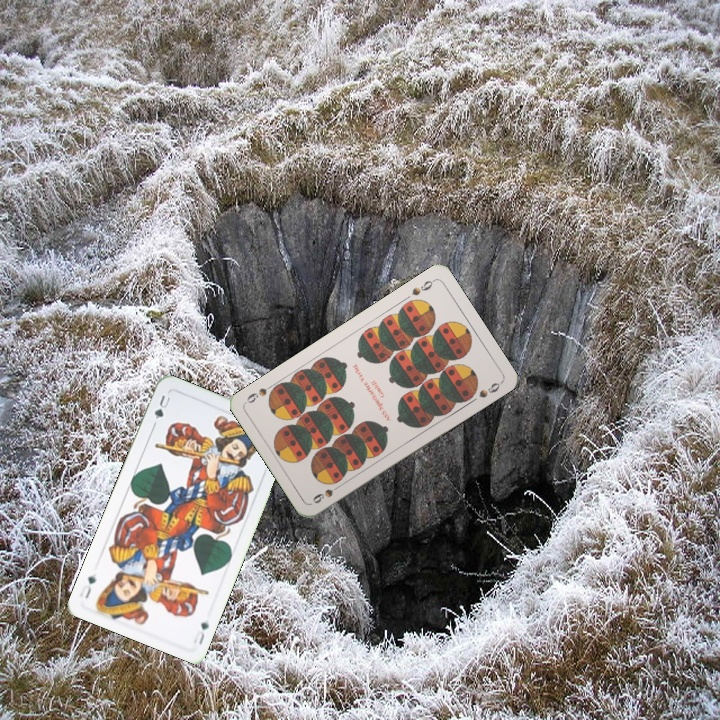GU: (149, 391, 173, 428), (189, 618, 211, 648)
S9: (309, 479, 345, 506), (407, 275, 437, 298)
